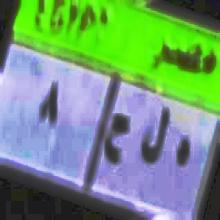7aa: (104, 106, 128, 172)
8: (40, 79, 57, 130)
haa: (174, 126, 191, 180)
laam: (139, 97, 168, 175)
